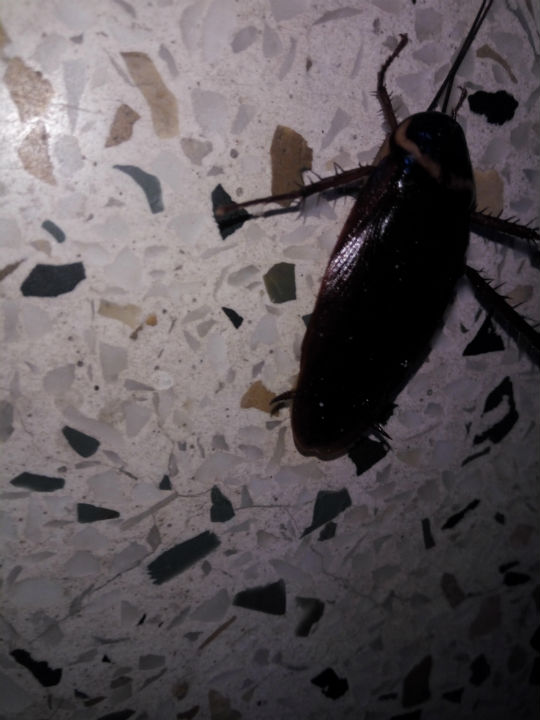cockroach: (213, 1, 538, 478)
